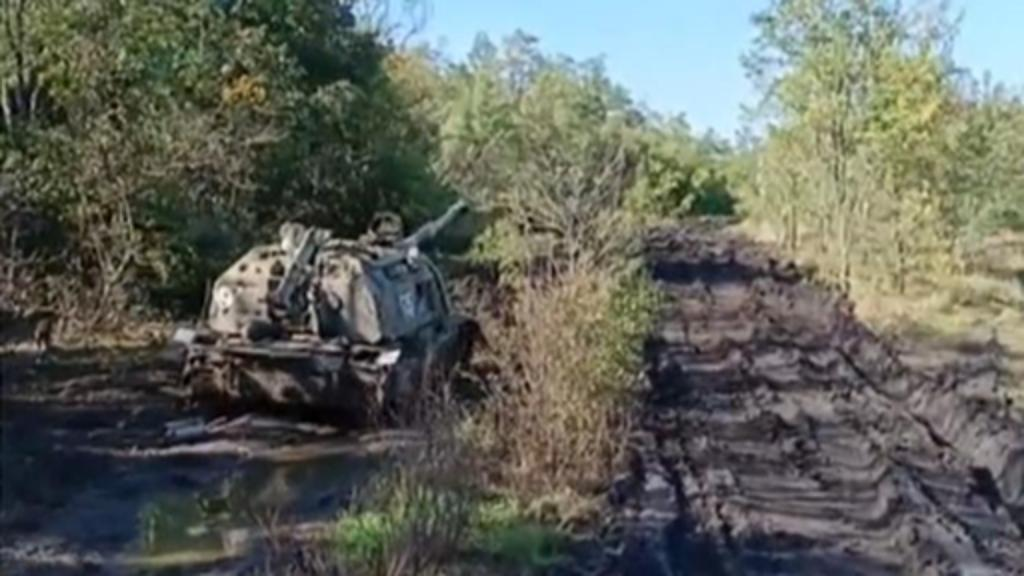ART: (176, 192, 478, 426)
